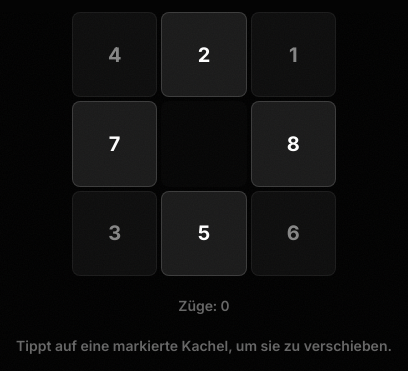
Scenario: SlidePuzzle › should increment move counter when a tile is clicked
The image size is (408, 371).
Expected: the button "1" is shown, [251,12,336,97]
Click the button "2" at coordinates (204, 55), box [161,12,247,97]
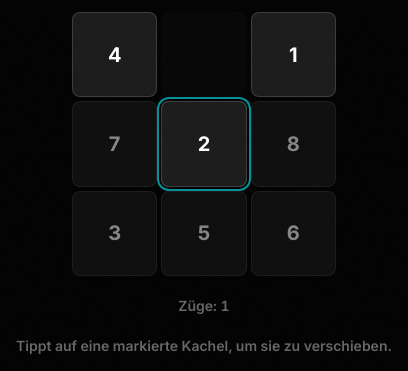
Result: the text "Züge: 1" is shown at [178,297,230,314]
